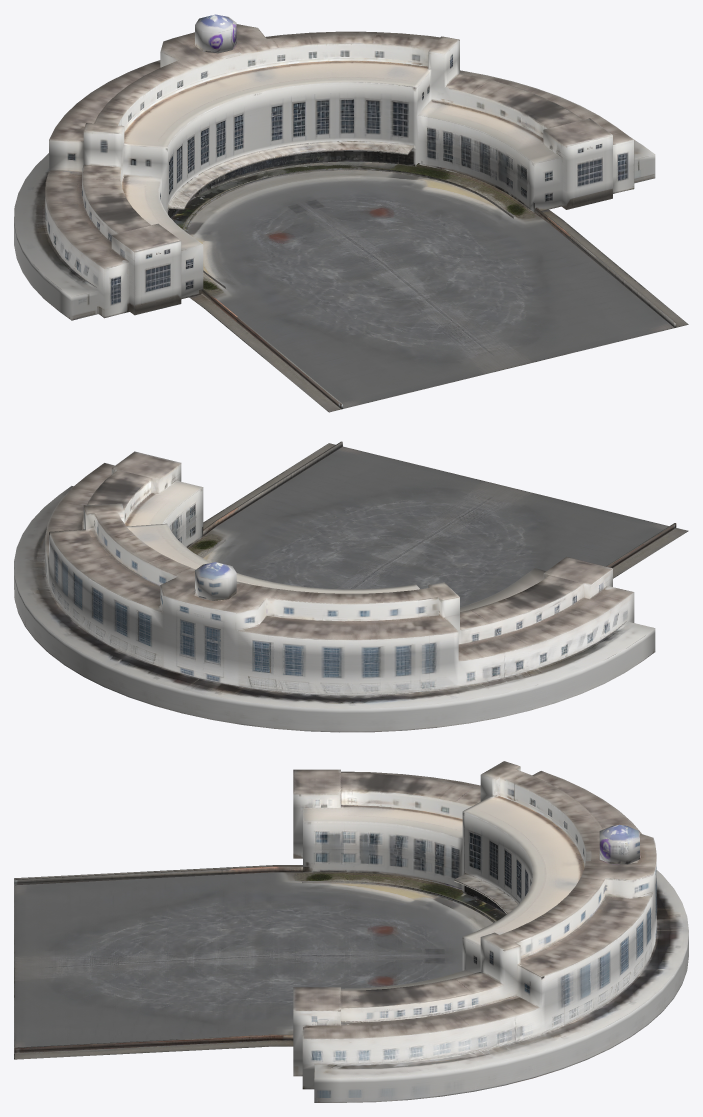
The model's file is Treasure_Island_Texture.glb.
3 renders of one model, top to bottom at view 1: azimuth 30°, elevation 25°; view 2: azimuth 150°, elevation 25°; view 3: azimuth 270°, elevation 25°, orthographic. The views are drawn at different scales.
Size of the model in its own units: 2 by 0.4844 by 1.94.
1 material, 1 textured.
